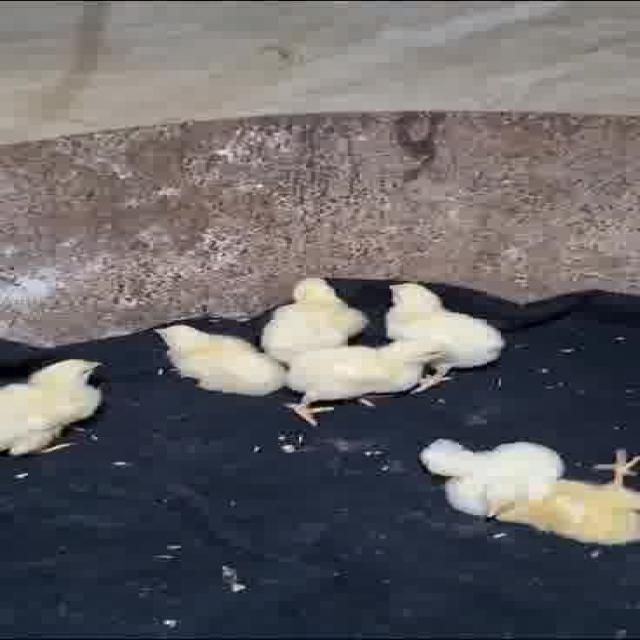poussin: (378, 280, 512, 395), (280, 341, 450, 424), (420, 437, 563, 532), (502, 457, 640, 550), (0, 358, 118, 461), (154, 322, 288, 394), (265, 275, 367, 355)
